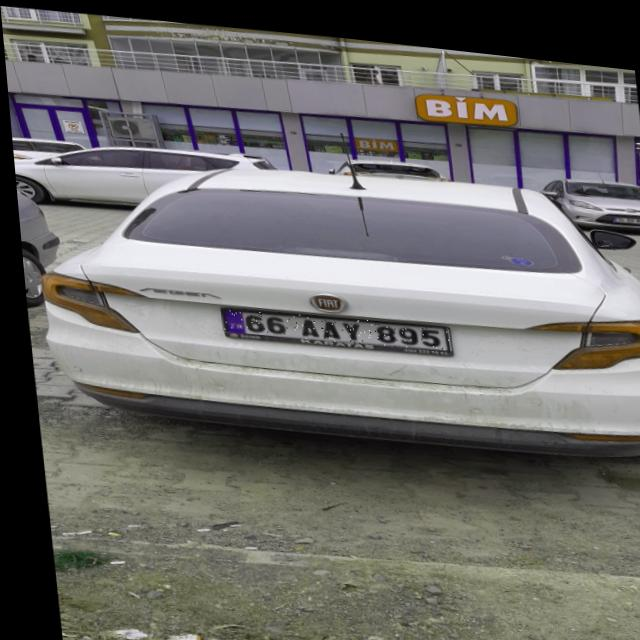license_plate: (214, 297, 444, 346)
